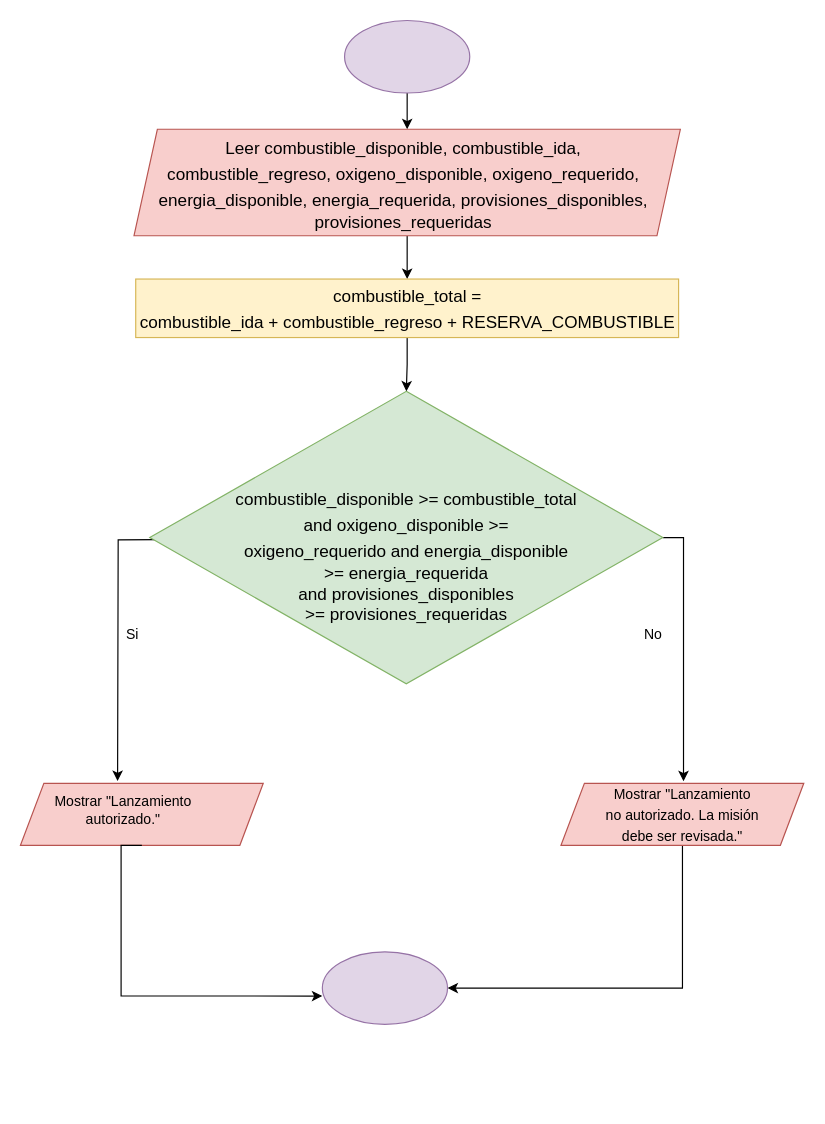
Image size: 825x1124. Some labels were removed from this diagram. Here are the shapes that lost their labels. From the top down, the box of each, then its label:
(343, 19, 470, 93): Inicio
(321, 951, 448, 1024): Fin
